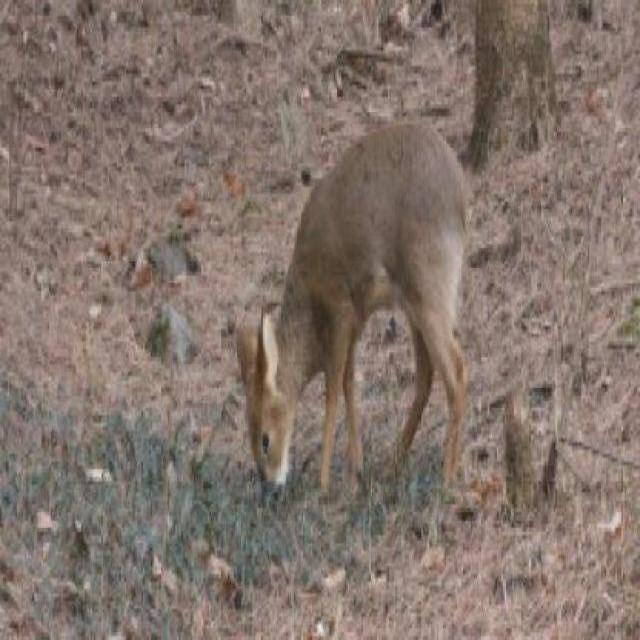deer: (250, 85, 488, 535)
